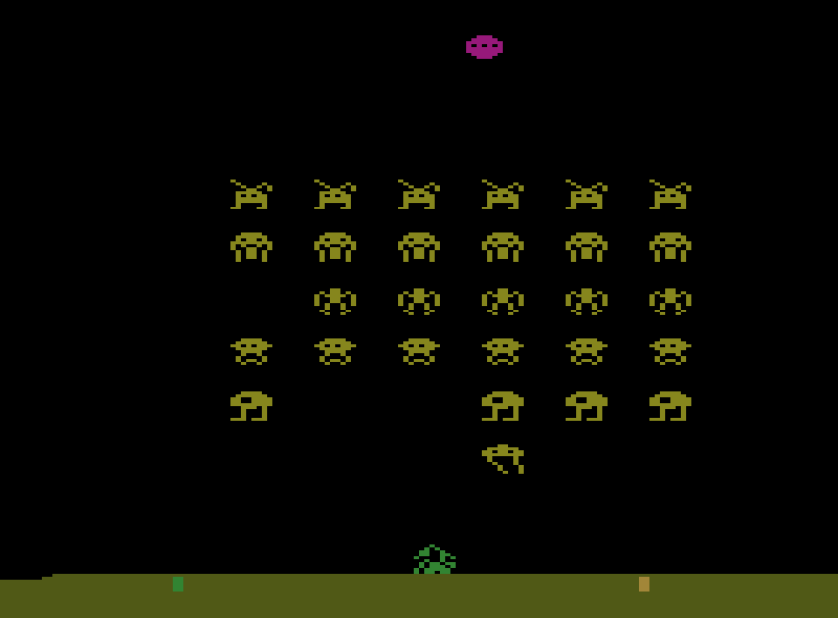bonus: (465, 33, 505, 60)
invader1: (313, 177, 358, 211), (480, 176, 525, 210), (565, 176, 610, 210), (649, 177, 693, 211), (229, 177, 274, 210), (397, 177, 442, 210)
invader2: (396, 229, 441, 264), (313, 230, 359, 264), (564, 230, 610, 264), (480, 231, 526, 264), (649, 230, 693, 264), (229, 230, 274, 263)
invader3: (396, 285, 443, 316), (564, 286, 610, 316), (314, 286, 359, 316), (480, 287, 525, 315), (648, 286, 693, 314)
invader4: (397, 335, 443, 368), (312, 336, 359, 368), (647, 336, 694, 367), (481, 335, 525, 368), (565, 337, 610, 367), (230, 337, 274, 367)
invader5: (479, 389, 527, 423), (227, 389, 275, 422), (565, 389, 610, 424), (646, 389, 693, 422)
invader6: (480, 441, 525, 475)
player: (412, 541, 458, 575)
